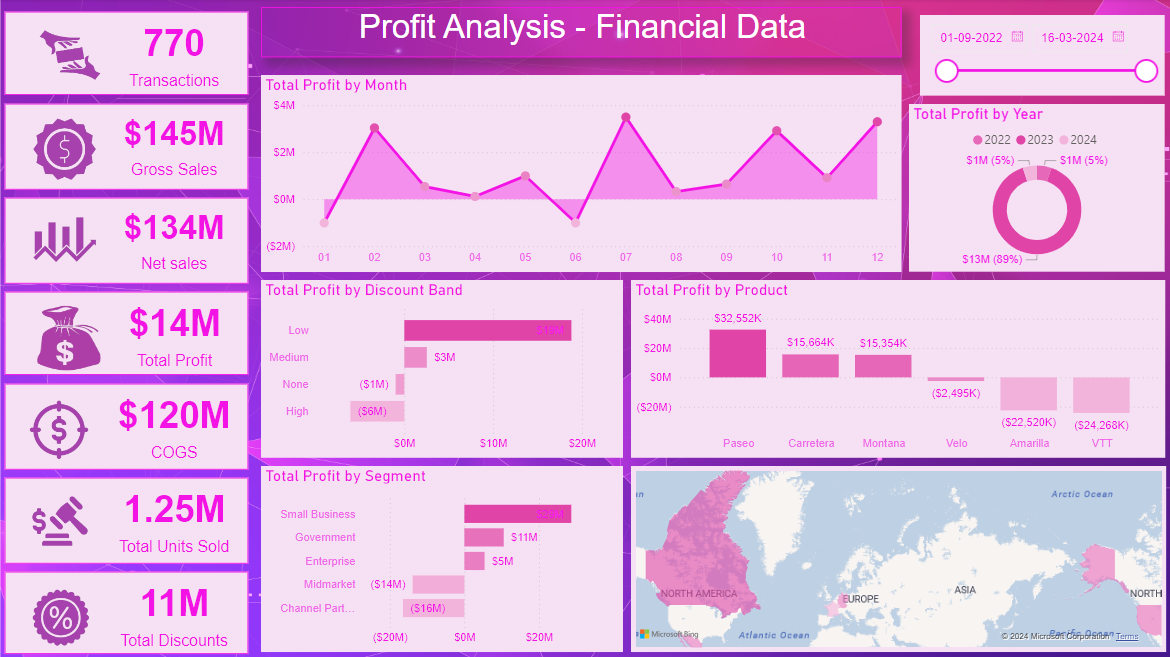

Layout of this report page (visuals, bound fields, positions):
{"tool":"powerbi","page":{"name":"Page 1","canvas":[1280,720],"ordinal":0},"visuals":[{"type":"cardVisual","fields":{"Data":["Measures Table.Total Transactions"]},"box":[0,9,276.1,101.9],"z":1},{"type":"cardVisual","fields":{"Data":["Measures Table.Gross Sales"]},"box":[0,109,276.1,104.5],"z":2},{"type":"cardVisual","fields":{"Data":["Measures Table.Net sales"]},"box":[0,211.6,276.1,104.5],"z":3},{"type":"cardVisual","fields":{"Data":["Measures Table.COGS"]},"box":[0,414.2,276.1,104.5],"z":4},{"type":"cardVisual","fields":{"Data":["Measures Table.Total Profit"]},"box":[0,314.2,276.1,101.9],"z":5},{"type":"areaChart","title":"Total Profit by Month","fields":{"Category":["Financial Data.Month-Year.Variation.Date Hierarchy.Year"],"Y":["Measures Table.Total Profit"]},"box":[284.8,82.9,699.5,215],"z":6},{"type":"actionButton","title":"Profit Analysis - Financial Data","box":[285.2,9,699.4,55.5],"z":7},{"type":"cardVisual","fields":{"Data":["Measures Table.Total Discounts"]},"box":[0,619.4,276.1,100.6],"z":9},{"type":"cardVisual","fields":{"Data":["Sum(Financial Data.Units Sold)"]},"box":[0,517.4,276.1,104.5],"z":10},{"type":"slicer","fields":{"Values":["Financial Data.Date"]},"box":[1003.9,17.5,267.3,88.4],"z":11},{"type":"columnChart","fields":{"Y":["Measures Table.Total Profit"],"Category":["Financial Data.Product"]},"box":[688.6,306.6,582.7,194.2],"z":12},{"type":"donutChart","fields":{"Y":["Measures Table.Total Profit"],"Category":["Financial Data.Date.Variation.Date Hierarchy.Year"]},"box":[991.9,114.6,279.4,183.3],"z":13},{"type":"barChart","fields":{"Category":["Financial Data.Discount Band"],"Y":["Measures Table.Total Profit"]},"box":[284.8,306.6,395,194.2],"z":14},{"type":"barChart","fields":{"Category":["Financial Data.Segment"],"Y":["Measures Table.Total Profit"]},"box":[284.8,509.6,395,203],"z":15},{"type":"filledMap","fields":{"Category":["Financial Data.Country"]},"box":[688.6,509.6,583.8,203],"z":16}]}

Visuals, with their boxes in screenshot pixels (x1, y1, x2, y2), scaled from the page's 1280x720 canvas onto the 1170x657 screenshot:
cardVisual - Measures Table.Total Transactions: BBox(0, 8, 252, 101)
cardVisual - Measures Table.Gross Sales: BBox(0, 99, 252, 195)
cardVisual - Measures Table.Net sales: BBox(0, 193, 252, 288)
cardVisual - Measures Table.COGS: BBox(0, 378, 252, 473)
cardVisual - Measures Table.Total Profit: BBox(0, 287, 252, 380)
"Total Profit by Month" areaChart: BBox(260, 76, 900, 272)
"Profit Analysis - Financial Data" actionButton: BBox(261, 8, 900, 59)
cardVisual - Measures Table.Total Discounts: BBox(0, 565, 252, 656)
cardVisual - Sum(Financial Data.Units Sold): BBox(0, 472, 252, 567)
slicer - Financial Data.Date: BBox(918, 16, 1162, 97)
columnChart - Measures Table.Total Profit x Financial Data.Product: BBox(629, 280, 1162, 457)
donutChart - Measures Table.Total Profit x Financial Data.Date.Variation.Date Hierarchy.Year: BBox(907, 105, 1162, 272)
barChart - Financial Data.Discount Band x Measures Table.Total Profit: BBox(260, 280, 621, 457)
barChart - Financial Data.Segment x Measures Table.Total Profit: BBox(260, 465, 621, 650)
filledMap - Financial Data.Country: BBox(629, 465, 1163, 650)
